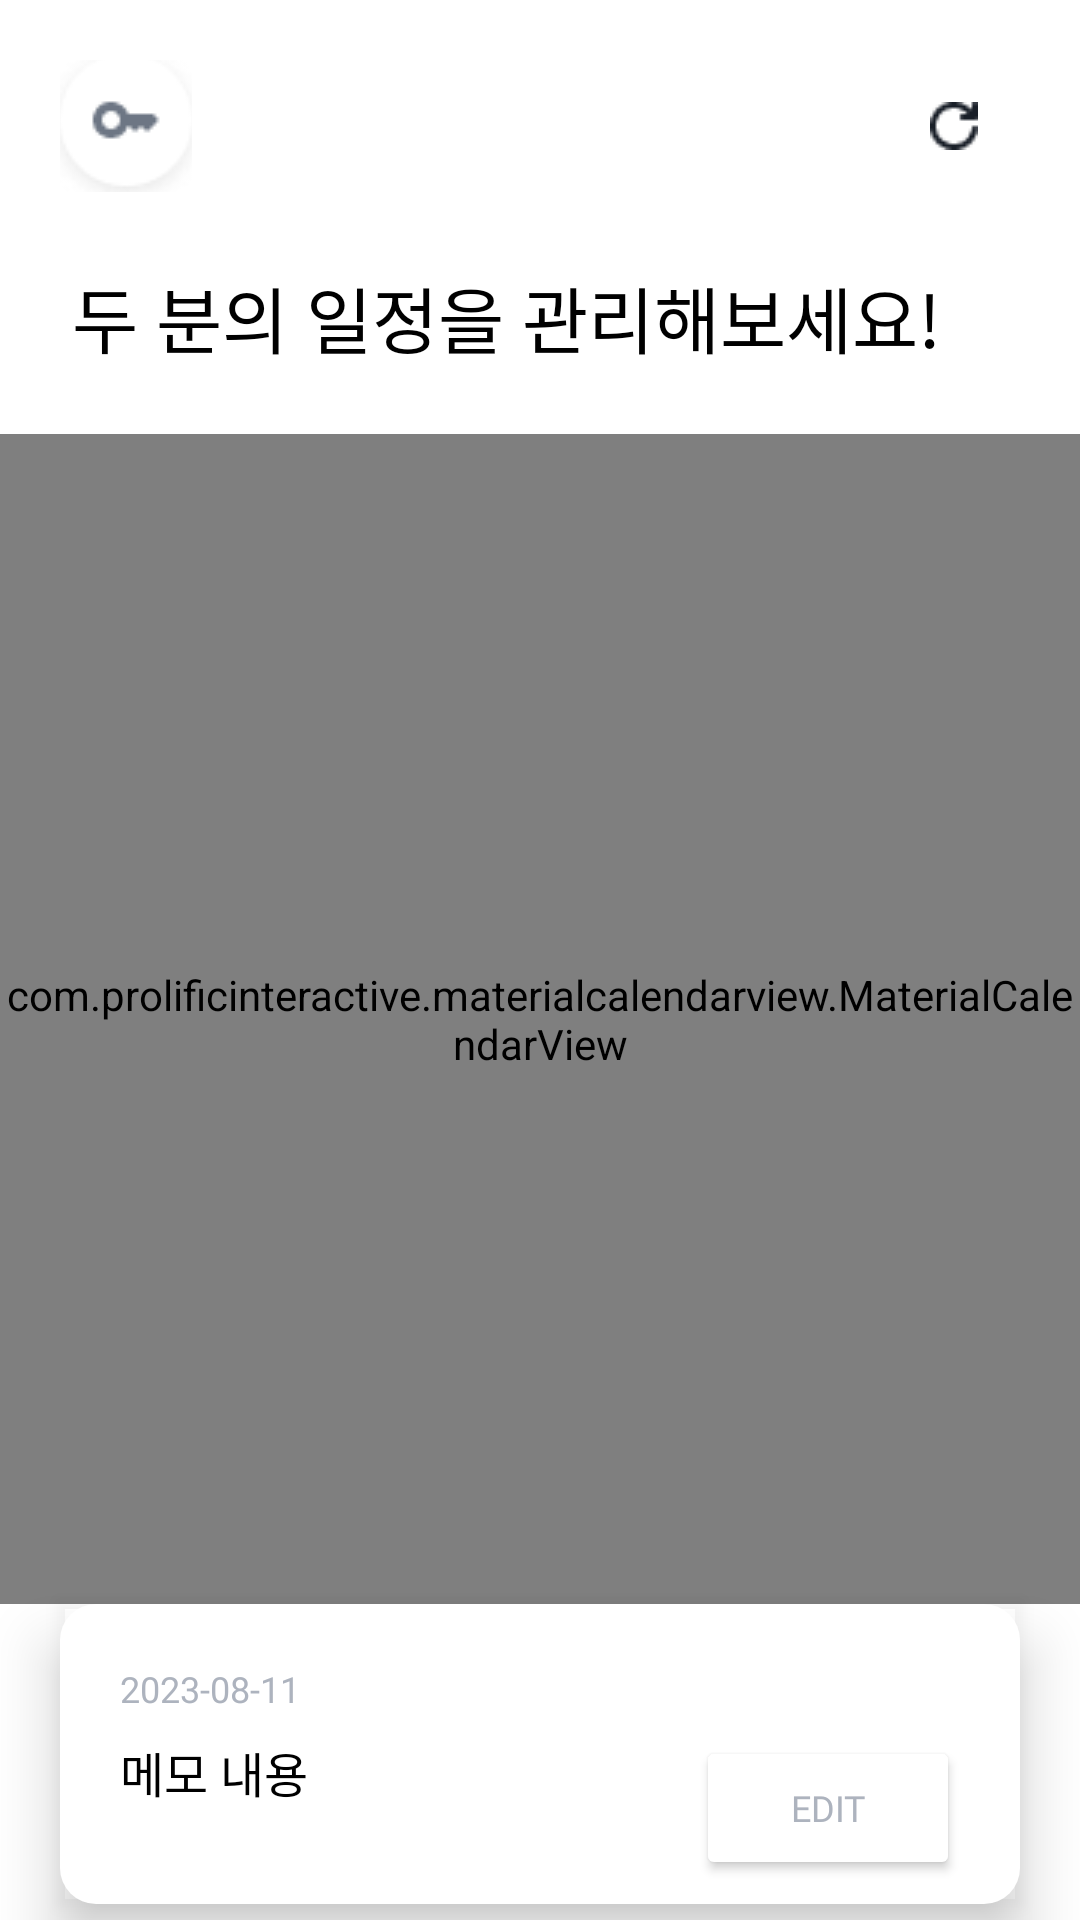

Icons on this 1080px x 1920px Android screen, each with the point to tap as (x,y):
calendar reload: (954,126)
register key: (125,120)
